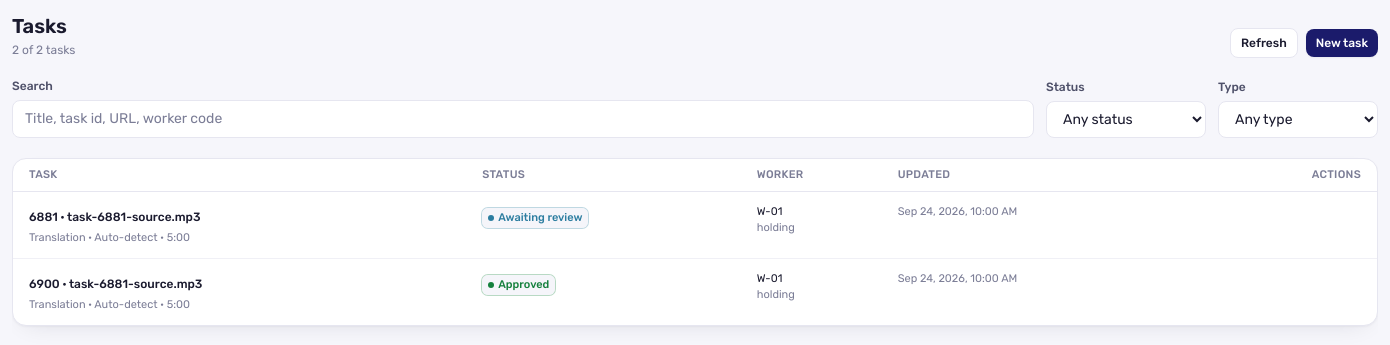
Test: admin Tasks filter › offers "Awaiting review" and filters to exactly those tasks
The image size is (1390, 345).
Expected: the text "2 of 2 tasks" is shown, x1=12 y1=42 x2=76 y2=58
Select "Awaiting review" in the dropdown labelled "Status": (1126, 120) x1=1046 y1=101 x2=1206 y2=138
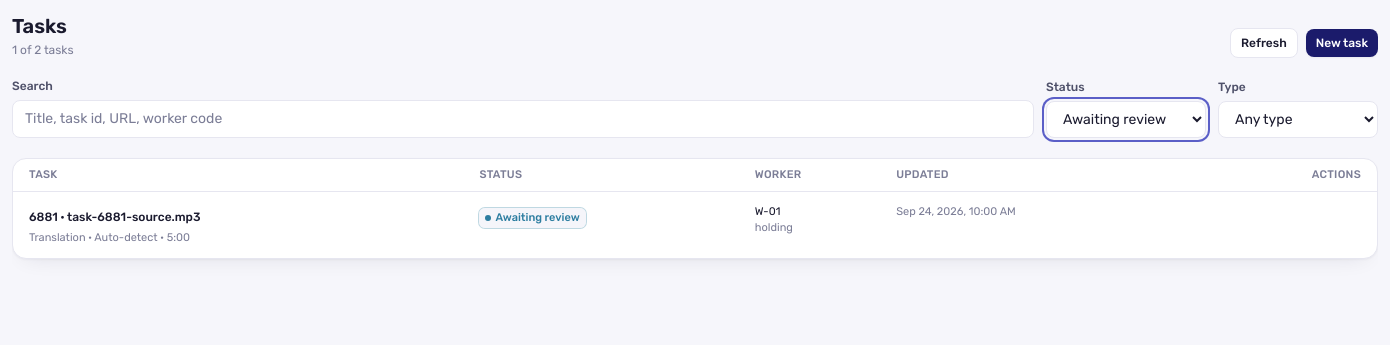
Result: the text "1 of 2 tasks" is shown at x1=12 y1=42 x2=74 y2=58
